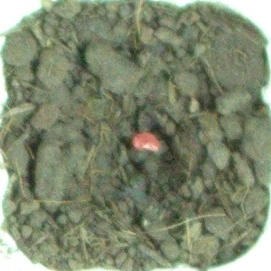chilli seed: (130, 127, 164, 154)
